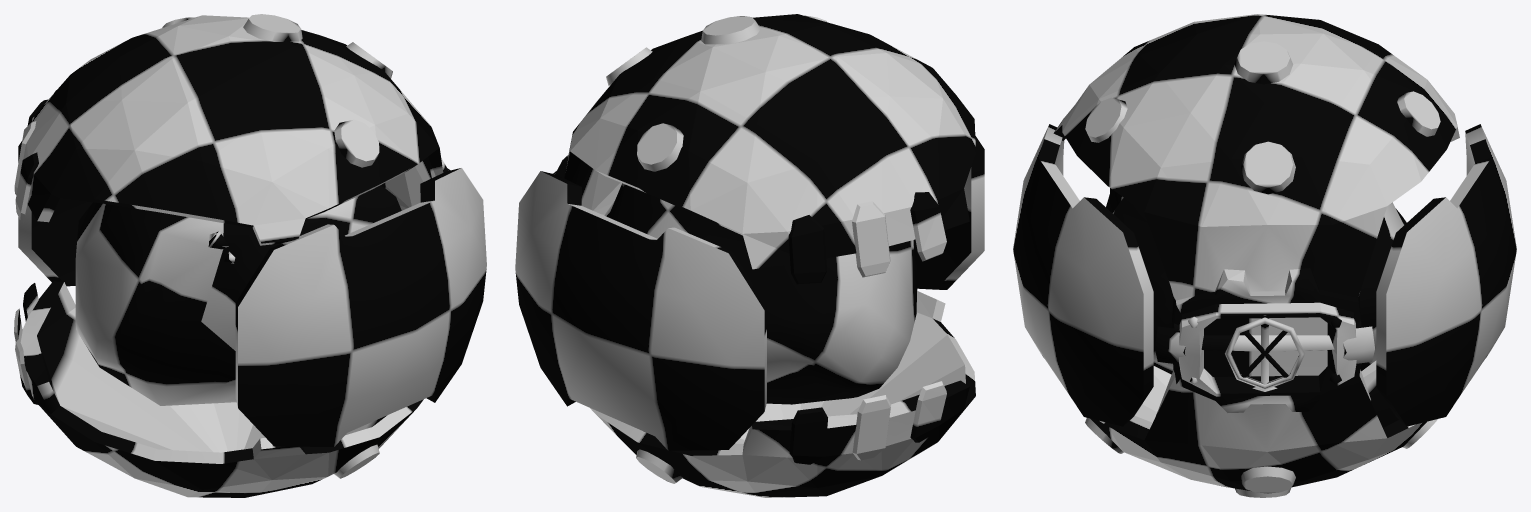
File: cbs.obj
3 views of the same model, side by side, from view 1: azimuth 30°, elevation 25°; view 2: azimuth 150°, elevation 25°; view 3: azimuth 270°, elevation 25° (orthographic).
Parts seen in each view (by area): view 1: core, hull_left, hull_right; view 2: core, hull_right, hull_left; view 3: core, hull_right, hull_left, deflector_level_1, deflector_level_3.
Boxes of the visible parts, box(x1,y1,x2,y2) form: core: box(14, 14, 450, 497); hull_left: box(235, 168, 486, 446); hull_right: box(18, 90, 92, 286); core: box(553, 14, 975, 497); hull_right: box(515, 171, 766, 450); hull_left: box(913, 136, 984, 289); core: box(1053, 14, 1459, 497); hull_right: box(1376, 124, 1516, 426); hull_left: box(1013, 124, 1153, 426); deflector_level_1: box(1155, 326, 1374, 363); deflector_level_3: box(1188, 316, 1341, 389).
Size of the model in its own units: 149 by 157 by 160.
6 materials, 6 textured.
